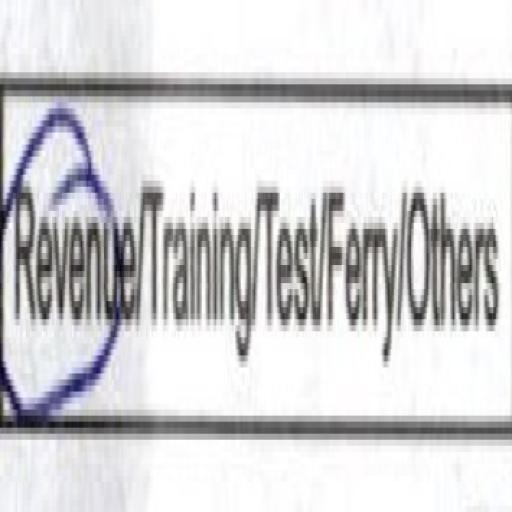check: (0, 42, 140, 448)
